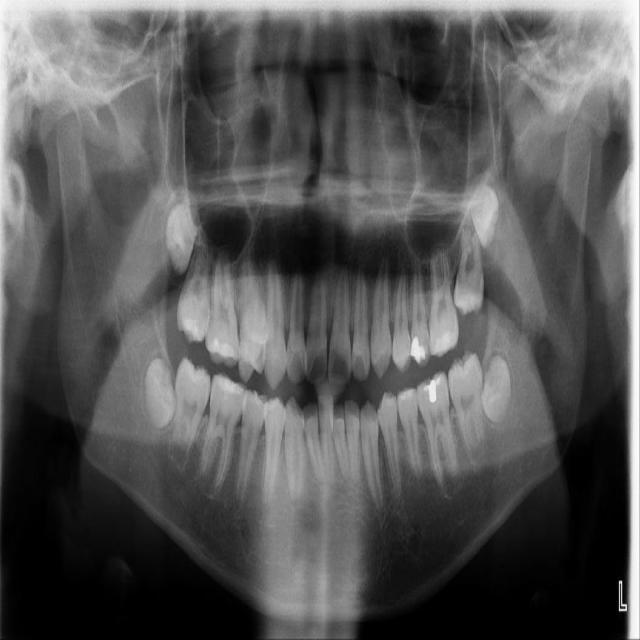3M ESPE Implant: (157, 202, 201, 277)
52: (414, 370, 454, 422), (409, 323, 432, 367)
73: (597, 592, 605, 606)
BioHorizons Implant: (452, 212, 492, 318)
BioLife Implant: (468, 183, 500, 250)
Biomet 3i Implant: (479, 354, 513, 425)
Blue Sky Bio Implant: (447, 350, 485, 455)
Caries: (176, 234, 211, 344)
Implant: (170, 357, 212, 461)
Keystone Dental Implant: (144, 358, 176, 429)
